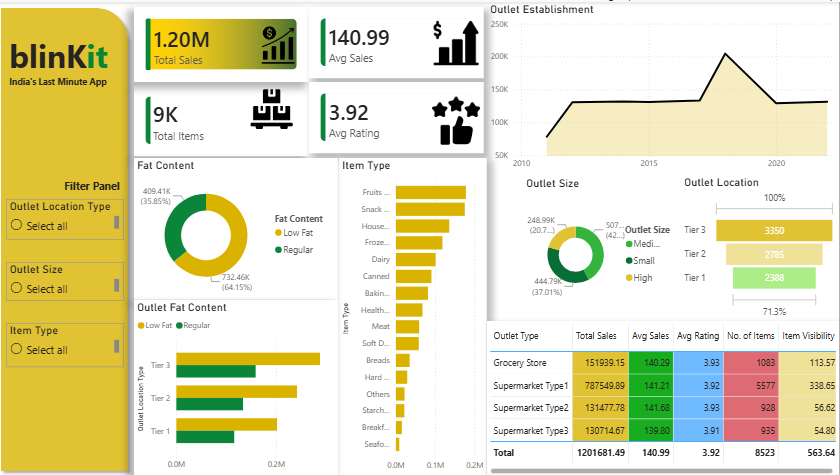

The dashboard page shown, as its layout file describes it:
{"tool":"powerbi","page":{"name":"Page 1","canvas":[1280,720],"ordinal":0},"visuals":[{"type":"shape","box":[0,0,210.8,720.4],"z":0},{"type":"textbox","box":[16.7,42.5,179,144.1],"z":1000},{"type":"listSlicer","fields":{"Values":["BlinkIT Grocery Data.Outlet Location Type"]},"box":[16.7,298.8,179,62.2],"z":2000},{"type":"listSlicer","fields":{"Values":["BlinkIT Grocery Data.Outlet Size"]},"box":[16.7,394.3,179,59.1],"z":3000},{"type":"listSlicer","fields":{"Values":["BlinkIT Grocery Data.Item Type"]},"box":[16.7,486.8,179,66.7],"z":4000},{"type":"textbox","box":[100.1,262.4,95.5,36.4],"z":5000},{"type":"areaChart","title":" Outlet Establishment","fields":{"Y":["Sum(BlinkIT Grocery Data.Sales)"],"Category":["BlinkIT Grocery Data.Outlet Establishment Year"]},"box":[746.2,0,533.8,262.4],"z":6000},{"type":"funnel","title":"Outlet Location","fields":{"Y":["CountNonNull(BlinkIT Grocery Data.Item Type)"],"Category":["BlinkIT Grocery Data.Outlet Location Type"]},"box":[1040.4,262.4,239.6,221.4],"z":7000},{"type":"donutChart","title":"Outlet Size","fields":{"Category":["BlinkIT Grocery Data.Outlet Size"],"Y":["Sum(BlinkIT Grocery Data.Sales)"]},"box":[800.8,263.9,239.6,219.9],"z":8000},{"type":"cardVisual","fields":{"Data":["BlinkIT Grocery Data.Total Items"]},"box":[210.8,125.9,265.4,107.7],"z":9000},{"type":"image","box":[380.7,130.4,77.3,63.7],"z":10000},{"type":"cardVisual","fields":{"Data":["Sum(BlinkIT Grocery Data.Sales)"]},"box":[210.8,7.6,265.4,113.7],"z":11000},{"type":"image","box":[400.4,27.3,57.6,75.8],"z":12000},{"type":"cardVisual","fields":{"Data":["BlinkIT Grocery Data.avg of sales"]},"box":[476.2,7.6,265.4,107.7],"z":13000},{"type":"image","box":[662.7,24.3,72.8,75.8],"z":14000},{"type":"cardVisual","fields":{"Data":["BlinkIT Grocery Data.Avg Rating"]},"box":[476.2,121.3,265.4,107.7],"z":15000},{"type":"image","box":[662.7,136.5,72.8,86.4],"z":16000},{"type":"barChart","title":"Item Type","fields":{"Category":["BlinkIT Grocery Data.Item Type"],"Y":["Sum(BlinkIT Grocery Data.Total Sales)"]},"box":[521.7,236.6,224.5,483.8],"z":17000},{"type":"donutChart","title":"Fat Content","fields":{"Category":["BlinkIT Grocery Data.Item Fat Content"],"Y":["Sum(BlinkIT Grocery Data.Total Sales)"]},"box":[210.8,236.6,309.4,215.4],"z":18000},{"type":"clusteredBarChart","title":"Outlet Fat Content","fields":{"Category":["BlinkIT Grocery Data.Outlet Location Type"],"Series":["BlinkIT Grocery Data.Item Fat Content"],"Y":["Sum(BlinkIT Grocery Data.Total Sales)"]},"box":[211,452,310,268],"z":19000},{"type":"tableEx","fields":{"Values":["BlinkIT Grocery Data.Outlet Type","Sum(BlinkIT Grocery Data.Total Sales)","BlinkIT Grocery Data.Avg Sales","BlinkIT Grocery Data.Avg Rating","BlinkIT Grocery Data.Total Items","Sum(BlinkIT Grocery Data.Item Visibility)"]},"box":[746.2,483.8,533.8,236.6],"z":20000}]}

Visuals, with their boxes in screenshot pixels (x1, y1, x2, y2), scaled from the page's 1280x720 canvas onto the 840x475 screenshot:
shape: 0/0/138/474
textbox: 11/28/128/123
listSlicer - BlinkIT Grocery Data.Outlet Location Type: 11/197/128/238
listSlicer - BlinkIT Grocery Data.Outlet Size: 11/260/128/299
listSlicer - BlinkIT Grocery Data.Item Type: 11/321/128/365
textbox: 66/173/128/197
" Outlet Establishment" areaChart: 490/0/839/173
"Outlet Location" funnel: 683/173/839/319
"Outlet Size" donutChart: 526/174/683/319
cardVisual - BlinkIT Grocery Data.Total Items: 138/83/313/154
image: 250/86/301/128
cardVisual - Sum(BlinkIT Grocery Data.Sales): 138/5/313/80
image: 263/18/301/68
cardVisual - BlinkIT Grocery Data.avg of sales: 313/5/487/76
image: 435/16/483/66
cardVisual - BlinkIT Grocery Data.Avg Rating: 313/80/487/151
image: 435/90/483/147
"Item Type" barChart: 342/156/490/474
"Fat Content" donutChart: 138/156/341/298
"Outlet Fat Content" clusteredBarChart: 138/298/342/474
tableEx - BlinkIT Grocery Data.Outlet Type x Sum(BlinkIT Grocery Data.Total Sales): 490/319/839/474
